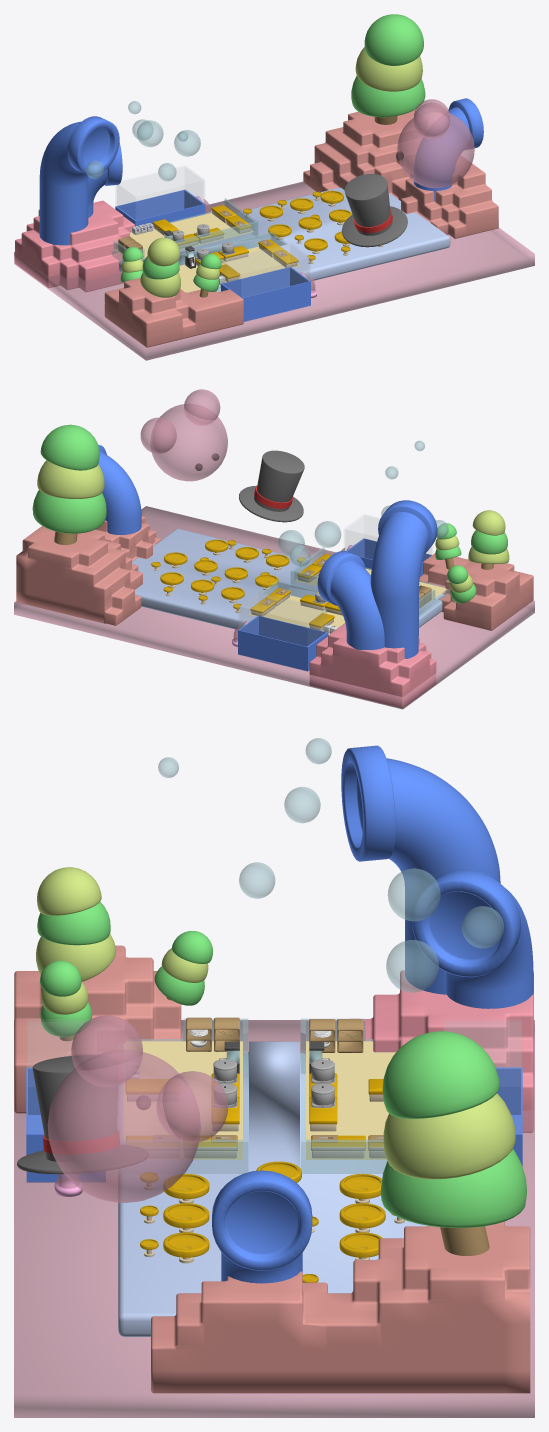
File: world_stage02(25.03.11).fbx
3 renders of one model, top to bottom at view 1: azimuth 30°, elevation 25°; view 2: azimuth 150°, elevation 25°; view 3: azimuth 270°, elevation 25°, orthographic. The views are drawn at different scales.
Parts seen in each view (by area): view 1: world_map, play_map, stage02_jellymachine, sky_deco, stage02_table, stage02_bubble03, stage02_bubble04; view 2: world_map, play_map, sky_deco, stage02_jellymachine, stage02_table, stage02_bubble03, stage02_bubble04; view 3: world_map, play_map, sky_deco, stage02_jellymachine, stage02_table, stage02_bubble03, stage02_bubble04, stage02_bubble07, stage02_bubble01, stage02_bubble02.
Part boxes in pixels (x1=…): world_map: x1=14, y1=14, x2=534, y2=360; play_map: x1=112, y1=187, x2=450, y2=292; stage02_jellymachine: x1=115, y1=166, x2=316, y2=321; sky_deco: x1=341, y1=99, x2=474, y2=247; stage02_table: x1=243, y1=190, x2=383, y2=263; stage02_bubble03: x1=136, y1=120, x2=163, y2=147; stage02_bubble04: x1=174, y1=130, x2=200, y2=156; world_map: x1=14, y1=424, x2=534, y2=709; play_map: x1=132, y1=529, x2=449, y2=634; sky_deco: x1=140, y1=389, x2=304, y2=522; stage02_jellymachine: x1=232, y1=515, x2=432, y2=671; stage02_table: x1=151, y1=539, x2=305, y2=612; stage02_bubble03: x1=314, y1=521, x2=341, y2=547; stage02_bubble04: x1=278, y1=530, x2=304, y2=556; world_map: x1=14, y1=745, x2=534, y2=1417; play_map: x1=118, y1=1017, x2=428, y2=1336; sky_deco: x1=17, y1=1015, x2=228, y2=1202; stage02_jellymachine: x1=26, y1=1020, x2=522, y2=1196; stage02_table: x1=140, y1=1161, x2=404, y2=1282; stage02_bubble03: x1=387, y1=868, x2=440, y2=921; stage02_bubble04: x1=386, y1=940, x2=438, y2=992; stage02_bubble07: x1=461, y1=906, x2=503, y2=948; stage02_bubble01: x1=284, y1=787, x2=320, y2=823; stage02_bubble02: x1=239, y1=862, x2=275, y2=898.
Bounding box in the file's own units: 34 × 15.58 × 20.
